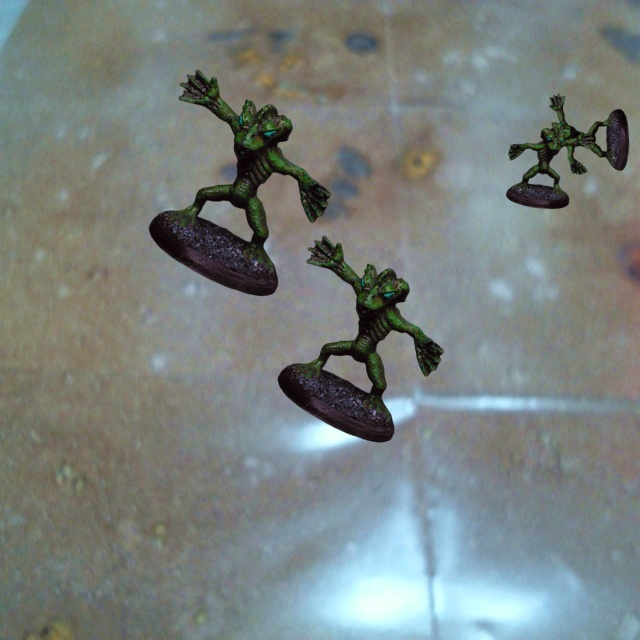pieza_juego: (149, 70, 330, 295), (278, 236, 443, 442), (506, 127, 593, 208), (549, 93, 628, 174)
